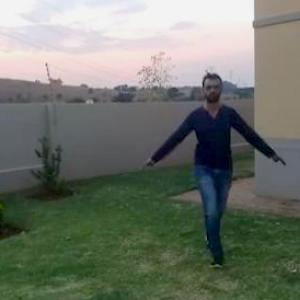land: (141, 76, 276, 248)
